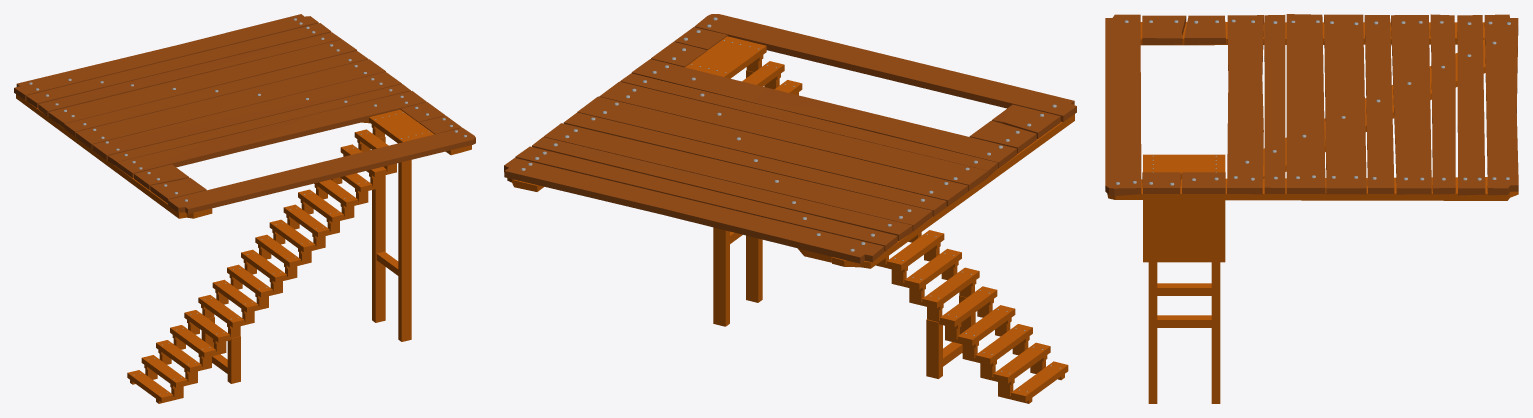
File: WoodenFloorStaired1.fbx
3 views of the same model, side by side, from view 1: azimuth 30°, elevation 25°; view 2: azimuth 150°, elevation 25°; view 3: azimuth 270°, elevation 25° (orthographic). The views are drawn at different scales.
Parts seen in each view (by area): view 1: WoodenFloorStaired1_LOD0; view 2: WoodenFloorStaired1_LOD0; view 3: WoodenFloorStaired1_LOD0.
Part boxes in pixels (x1,y1,x2,y2): WoodenFloorStaired1_LOD0: (14,14,475,403); WoodenFloorStaired1_LOD0: (504,14,1076,403); WoodenFloorStaired1_LOD0: (1105,14,1518,403).
Size of what is drawn, in the model's own units: 1876 by 1231 by 1855.
